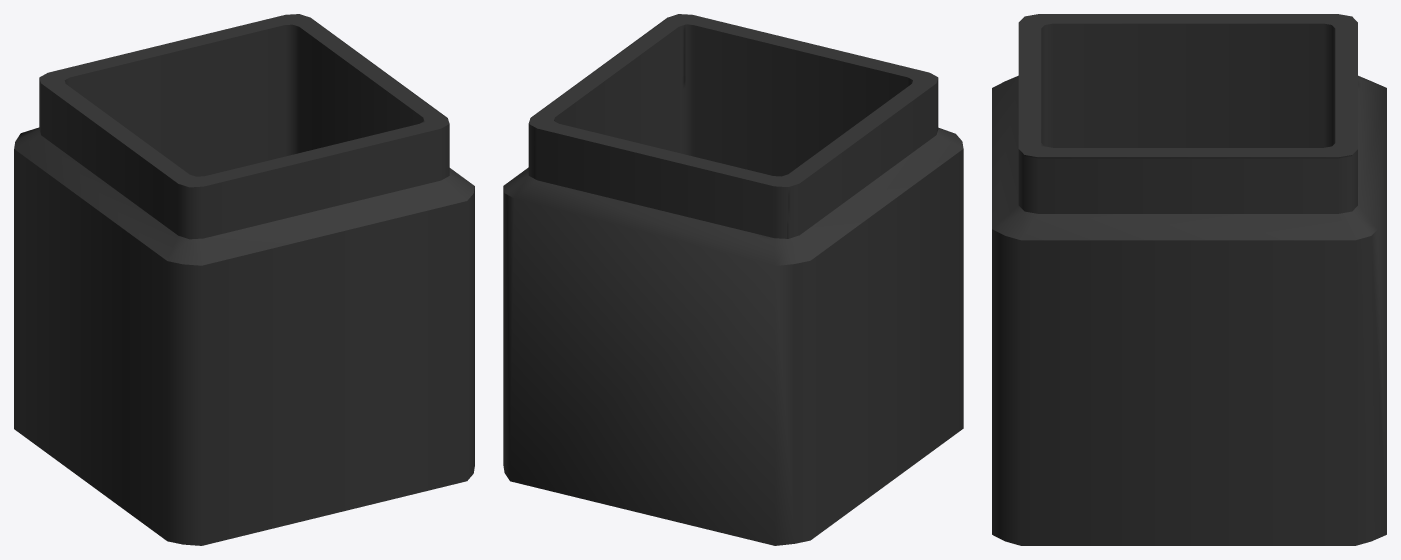
Rendered from Recycler.fbx.
The picture shows the model from 3 angles, left to right: view 1: azimuth 30°, elevation 25°; view 2: azimuth 150°, elevation 25°; view 3: azimuth 270°, elevation 25°; orthographic projection. The views are drawn at different scales.
Parts seen in each view (by area): view 1: RS_recycler; view 2: RS_recycler; view 3: RS_recycler.
Part boxes in pixels (left/top/right/bottom): RS_recycler: left=14, top=14, right=474, bottom=545; RS_recycler: left=503, top=14, right=963, bottom=545; RS_recycler: left=992, top=14, right=1386, bottom=545.
Bounding box in the file's own units: 228 × 246 × 233.
